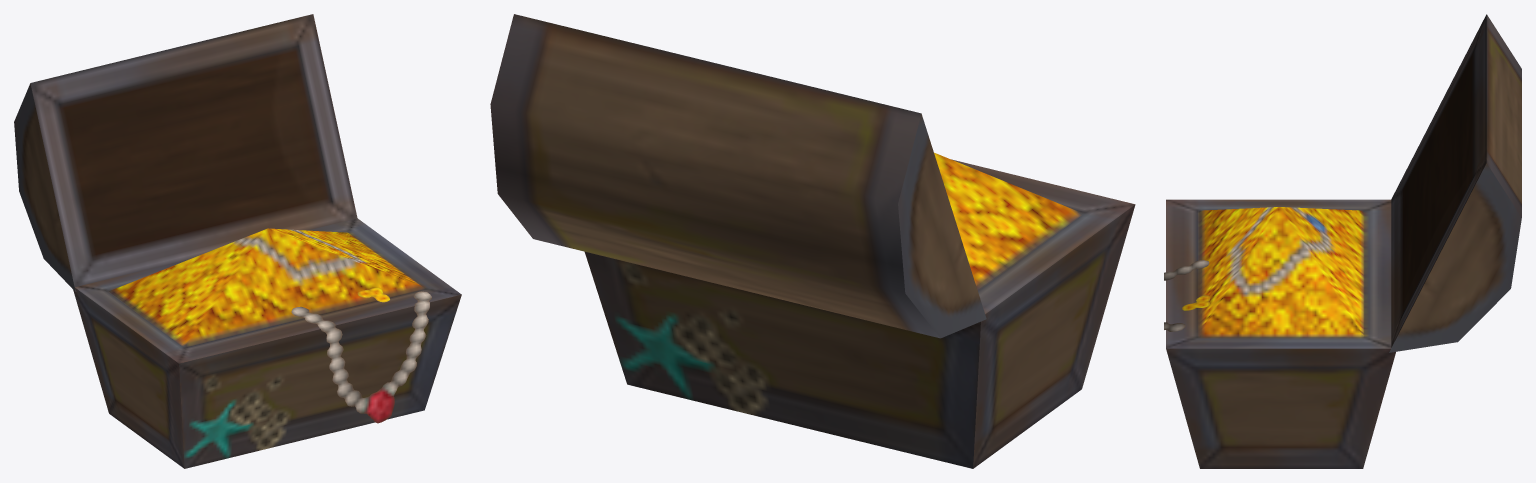
The model's file is ship_etc_3.FBX.
3 renders of one model, left to right at view 1: azimuth 30°, elevation 25°; view 2: azimuth 150°, elevation 25°; view 3: azimuth 270°, elevation 25°, orthographic. The views are drawn at different scales.
Parts seen in each view (by area): view 1: Object005; view 2: Object005; view 3: Object005.
Part boxes in pixels (<box>): Object005: <box>14,14,461,468</box>; Object005: <box>490,14,1135,468</box>; Object005: <box>1164,14,1521,468</box>.
Bounding box in the file's own units: 128 × 130 × 127.
